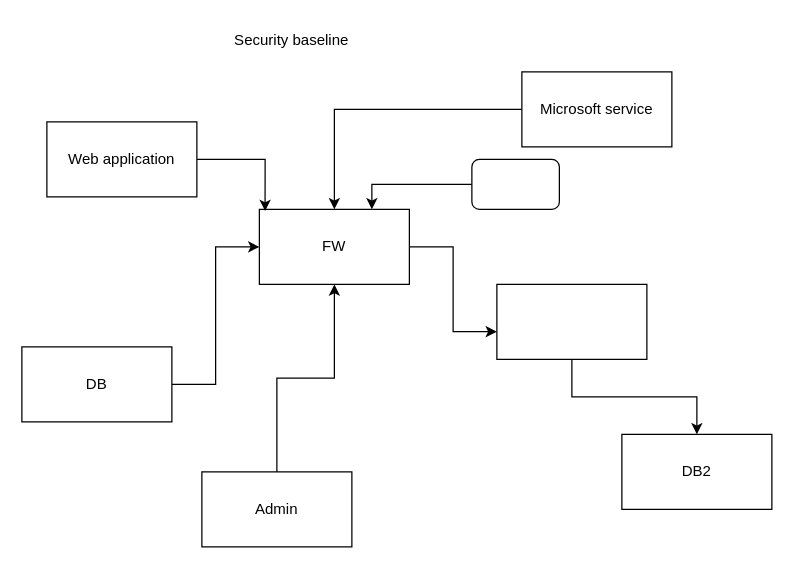
This 794x569 diagram has some shape labels left out. The box of each missing label's shape, as (x1, y1, x2, y2) in pixels:
FW2: (496, 283, 647, 359)
Users: (471, 158, 559, 209)
